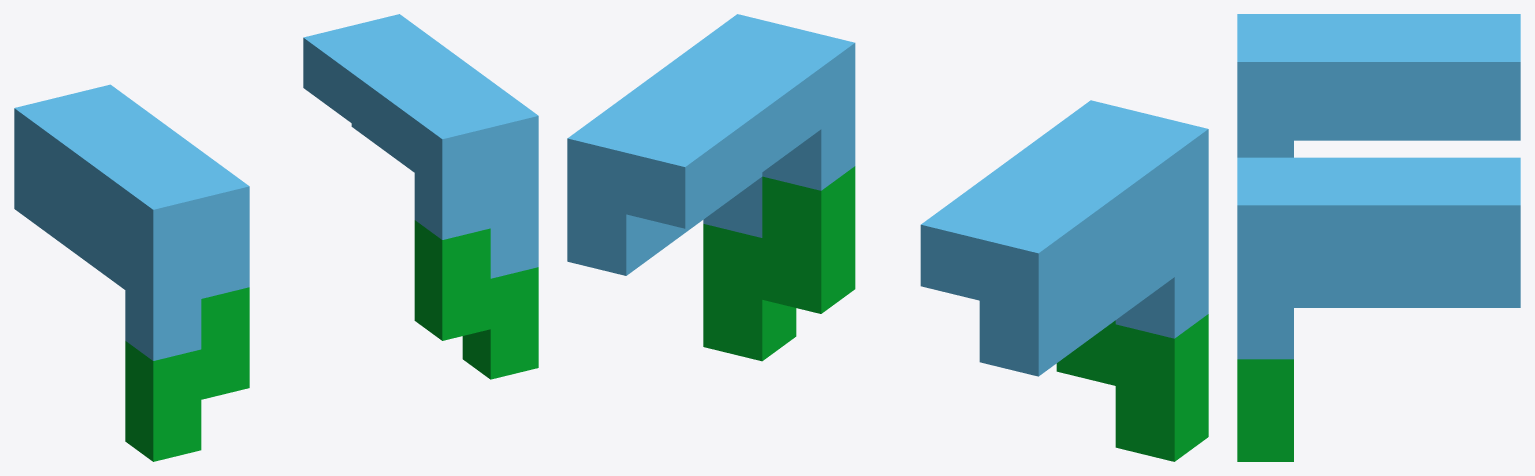
Rendered from spiderfang.obj.
The picture shows the model from 3 angles, left to right: view 1: azimuth 30°, elevation 25°; view 2: azimuth 150°, elevation 25°; view 3: azimuth 270°, elevation 25°; orthographic projection. The views are drawn at different scales.
Bounding box in the file's own units: 0.8 × 0.5 × 0.5.
1 material, 1 textured.
